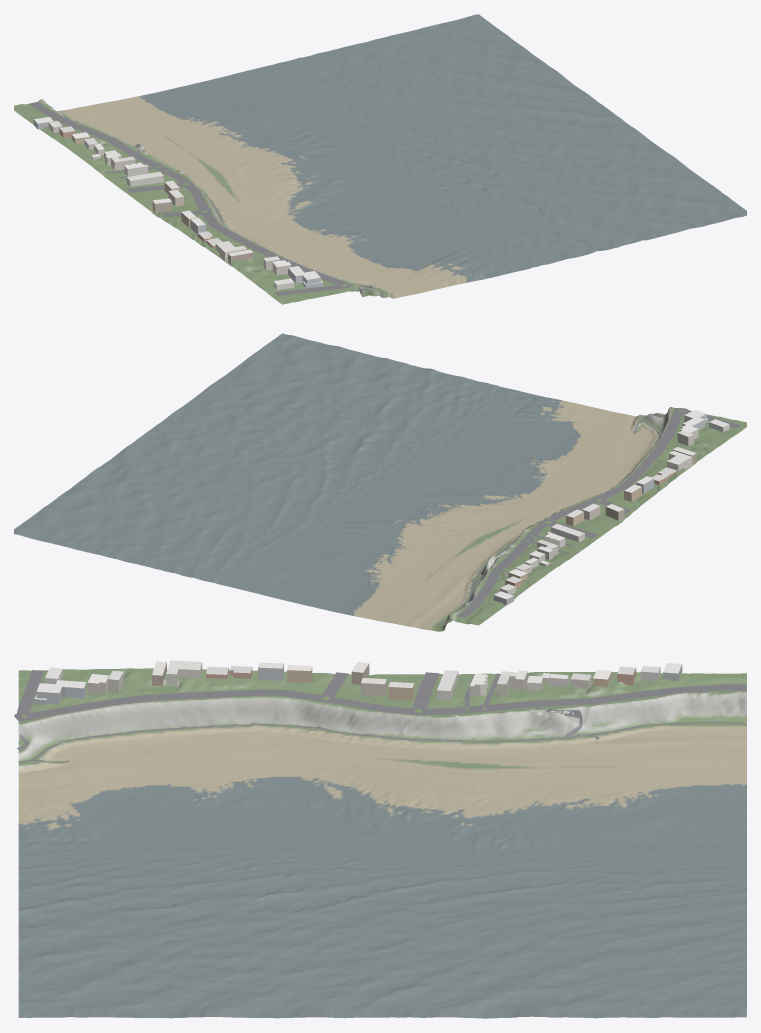
3 views of the same model, one above another, from view 1: azimuth 30°, elevation 25°; view 2: azimuth 150°, elevation 25°; view 3: azimuth 270°, elevation 25° (orthographic). The views are drawn at different scales.
Visible parts, largest first — view 1: prim0, prim1, prim2; view 2: prim0, prim1, prim2; view 3: prim0, prim1, prim2.
Part boxes in pixels (x1=…): prim0: x1=14, y1=14, x2=746, y2=304; prim1: x1=33, y1=117, x2=323, y2=289; prim2: x1=29, y1=102, x2=384, y2=295; prim0: x1=14, y1=333, x2=746, y2=631; prim1: x1=493, y1=409, x2=729, y2=605; prim2: x1=436, y1=408, x2=741, y2=625; prim0: x1=18, y1=668, x2=746, y2=1018; prim1: x1=34, y1=660, x2=682, y2=704; prim2: x1=14, y1=670, x2=746, y2=762.
Bounding box in the file's own units: 518 × 40.43 × 515.
